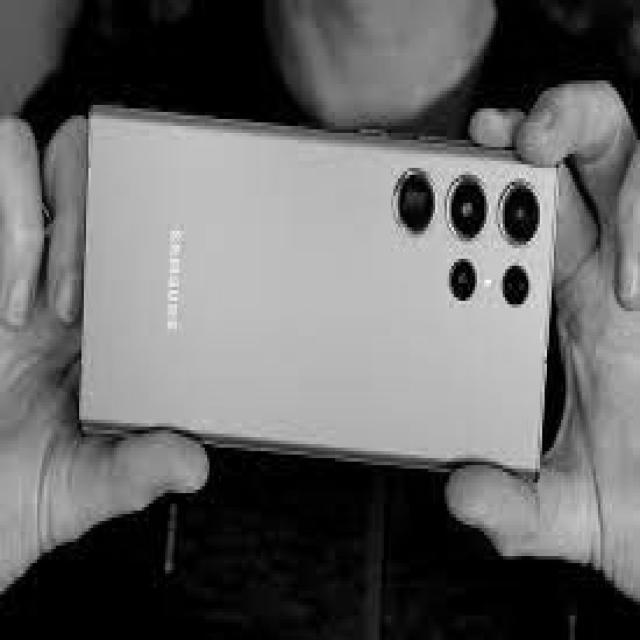No gun_phone: (80, 106, 557, 482)
